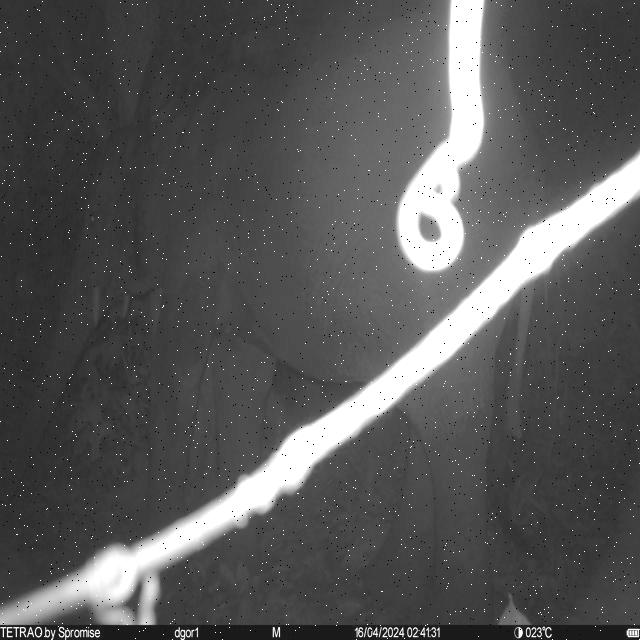elephant: (8, 0, 550, 618)
tusk: (92, 284, 103, 328), (118, 294, 132, 322)
